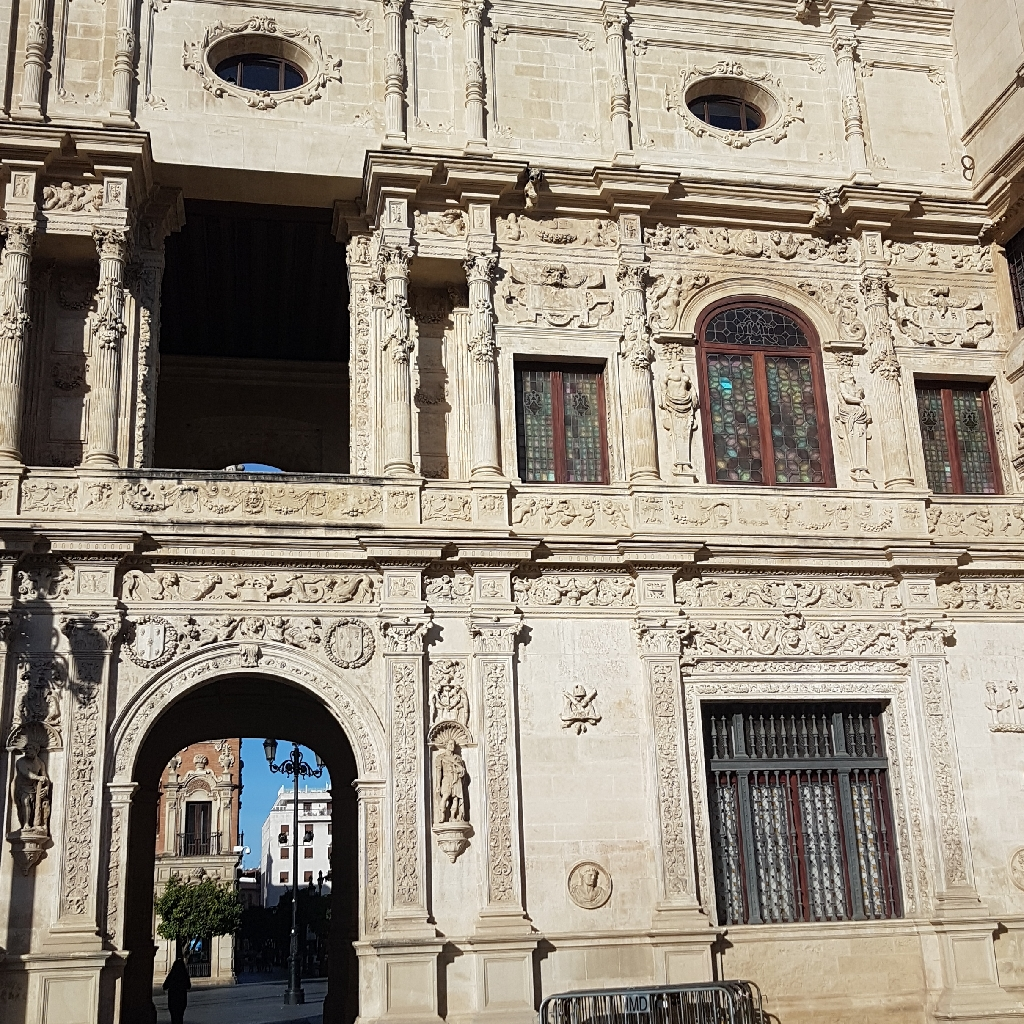arco-medio-punto: (116, 652, 372, 811), (683, 280, 841, 379)
ojo-de-buey: (188, 20, 325, 97), (677, 63, 793, 142)
vano-adintelado: (667, 655, 938, 929), (491, 327, 637, 494), (898, 344, 1022, 504)
